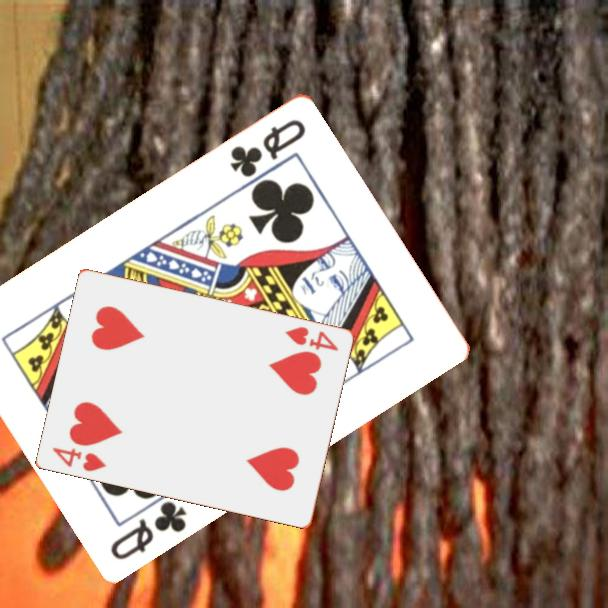c12: (106, 496, 190, 562), (226, 115, 309, 180)
h04: (50, 443, 110, 474), (282, 323, 342, 353)
